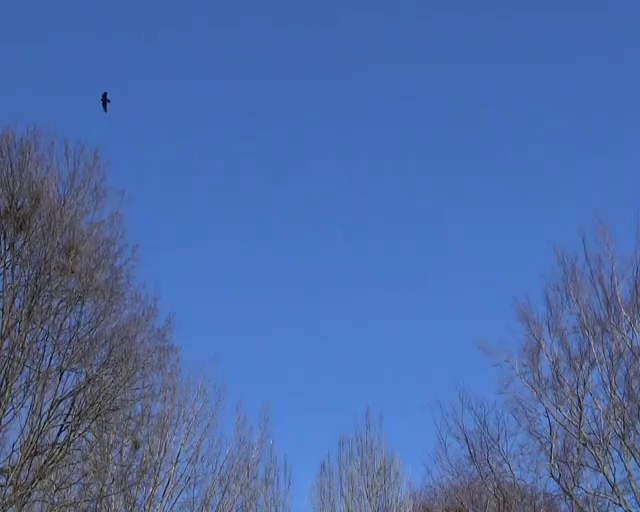BIRD: (101, 91, 110, 112)
